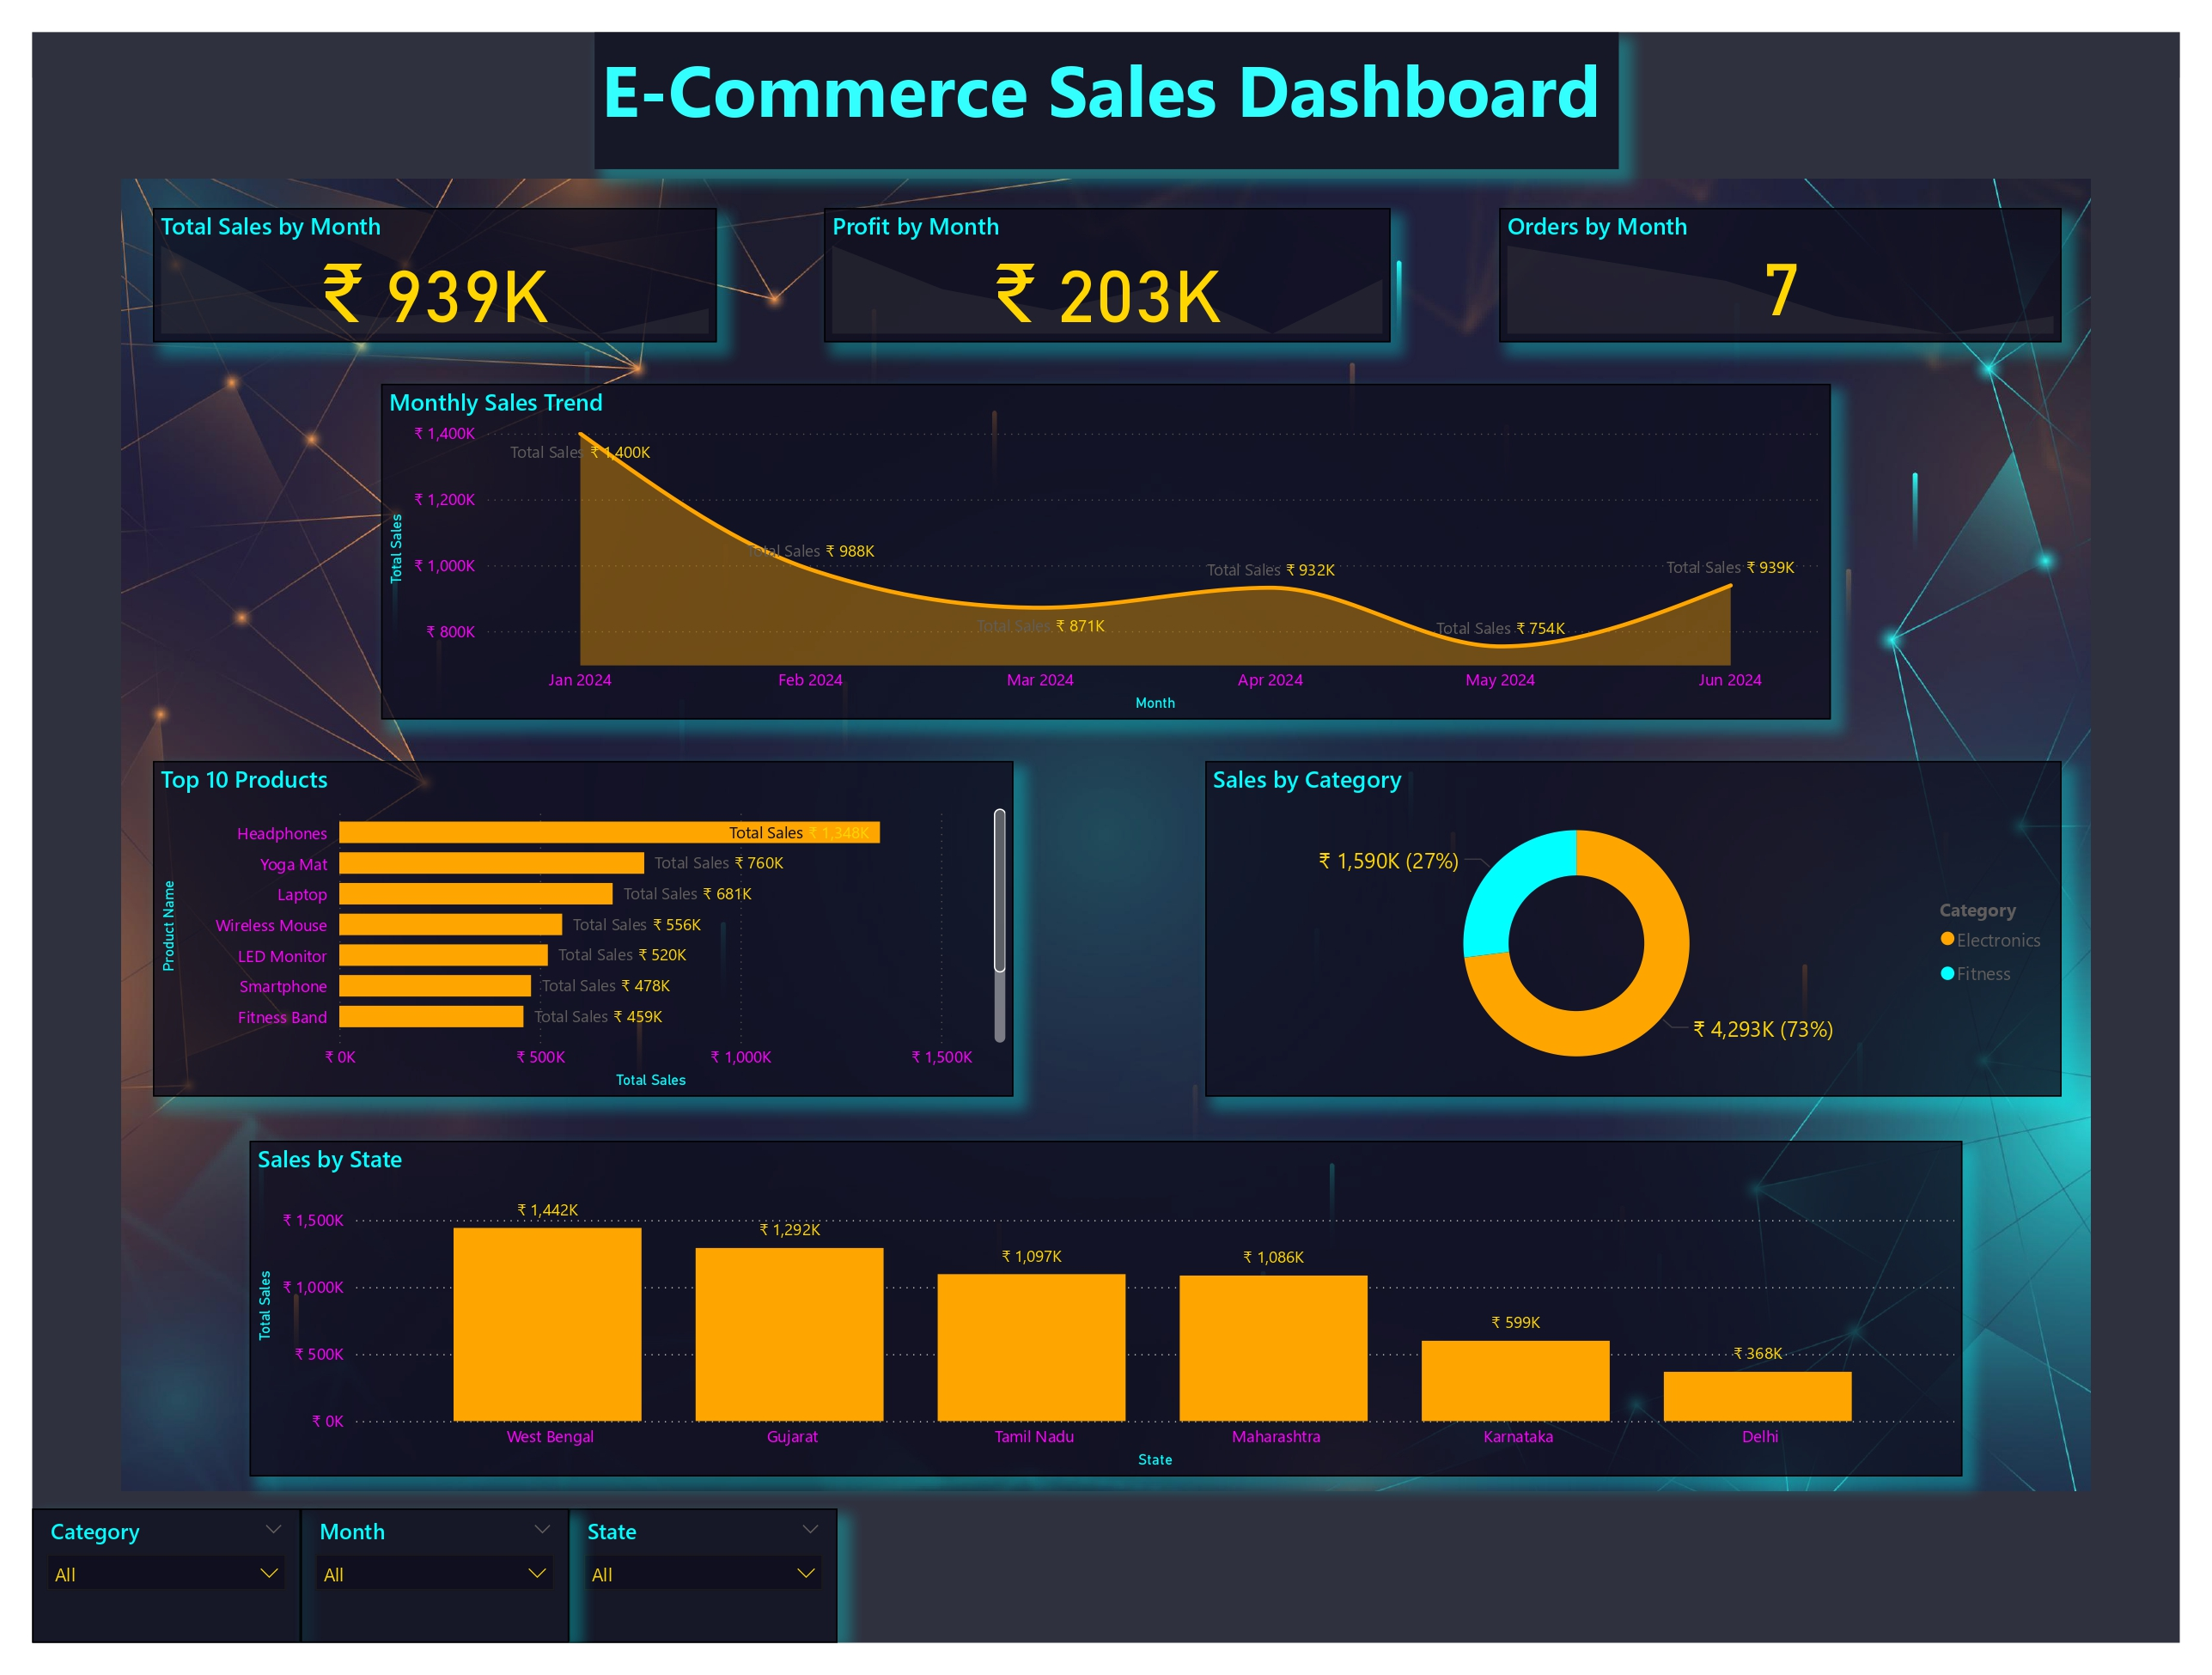

What the dashboard file says about the page in this screenshot:
{"tool":"powerbi","page":{"name":"Page 1","canvas":[1600,1200],"ordinal":0},"visuals":[{"type":"kpi","title":"Total Sales by Month","fields":{"Indicator":["Sum(Sheet1.Total Sales)"],"TrendLine":["Sheet1.Order Date.Variation.Date Hierarchy.Month"]},"box":[90.5,131,419,100],"z":0},{"type":"kpi","title":"Profit by Month","fields":{"Indicator":["Sum(Sheet1.Profit)"],"TrendLine":["Sheet1.Order Date.Variation.Date Hierarchy.Month"]},"box":[590.5,131,421.4,100],"z":1000},{"type":"kpi","title":"Orders by Month","fields":{"Indicator":["CountNonNull(Sheet1.Order ID)"],"TrendLine":["Sheet1.Order Date.Variation.Date Hierarchy.Month"]},"box":[1092.9,131,419,100],"z":2000},{"type":"lineChart","title":"Monthly Sales Trend","fields":{"Category":["Sheet1.MonthYear"],"Y":["Sum(Sheet1.Total Sales)"]},"box":[259.5,261.9,1081,250],"z":3000},{"type":"clusteredBarChart","title":"Top 10 Products","fields":{"Category":["Sheet.Product Name"],"Y":["Sum(Sheet.Total Sales)"]},"box":[90.5,542.9,640.5,250],"z":4000},{"type":"donutChart","title":"Sales by Category","fields":{"Category":["Sheet1.Category"],"Y":["Sum(Sheet.Total Sales)"]},"box":[873.8,542.9,638.1,250],"z":5000},{"type":"columnChart","title":"Sales by State","fields":{"Category":["Sheet.State"],"Y":["Sum(Sheet.Total Sales)"]},"box":[161.9,826.2,1276.2,250],"z":6000},{"type":"slicer","fields":{"Values":["Sheet1.Category"]},"box":[0,1100,200,100],"z":7000},{"type":"slicer","fields":{"Values":["Sheet.State"]},"box":[400,1100,200,100],"z":8000},{"type":"slicer","fields":{"Values":["Sheet1.MonthYear"]},"box":[200,1100,200,100],"z":9000},{"type":"textbox","box":[400,0,764.3,102.4],"z":10000}]}

Visuals, with their boxes on the page's 1600x1200 design canvas (x1, y1, x2, y2). These are canvas units, not pixel positions in the 2212x1675 screenshot, which may show the page scaled, cropped or inside an application window:
"Total Sales by Month" kpi: (90,131,510,231)
"Profit by Month" kpi: (590,131,1012,231)
"Orders by Month" kpi: (1093,131,1512,231)
"Monthly Sales Trend" lineChart: (260,262,1340,512)
"Top 10 Products" clusteredBarChart: (90,543,731,793)
"Sales by Category" donutChart: (874,543,1512,793)
"Sales by State" columnChart: (162,826,1438,1076)
slicer - Sheet1.Category: (0,1100,200,1200)
slicer - Sheet.State: (400,1100,600,1200)
slicer - Sheet1.MonthYear: (200,1100,400,1200)
textbox: (400,0,1164,102)
